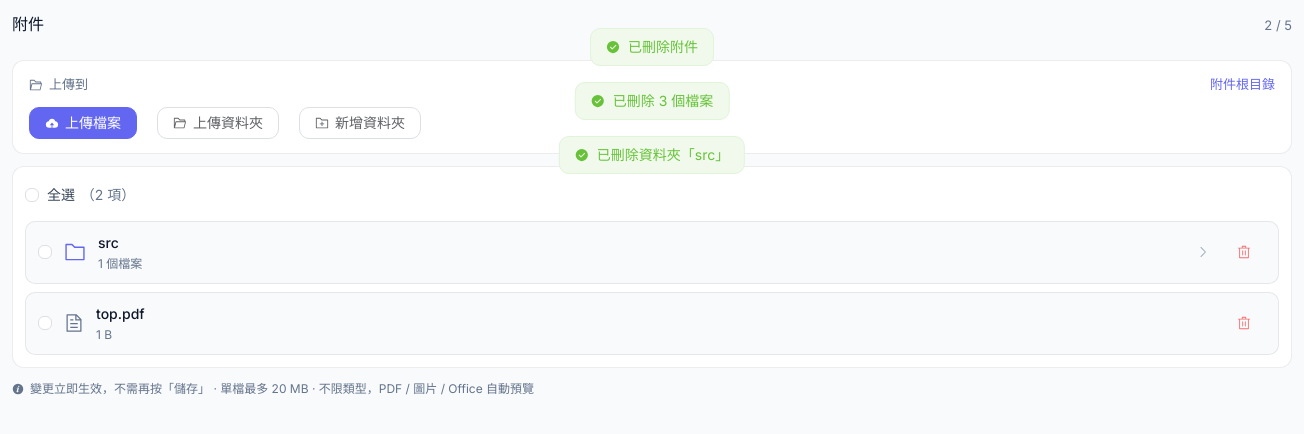
Test case: JobAttachmentsManager.vue › transient "new folder" button › opens a name prompt and navigates into the new folder on confirm
Click the button with test id "folder-create-button". click: (360, 122)
box: [299,106,421,138]
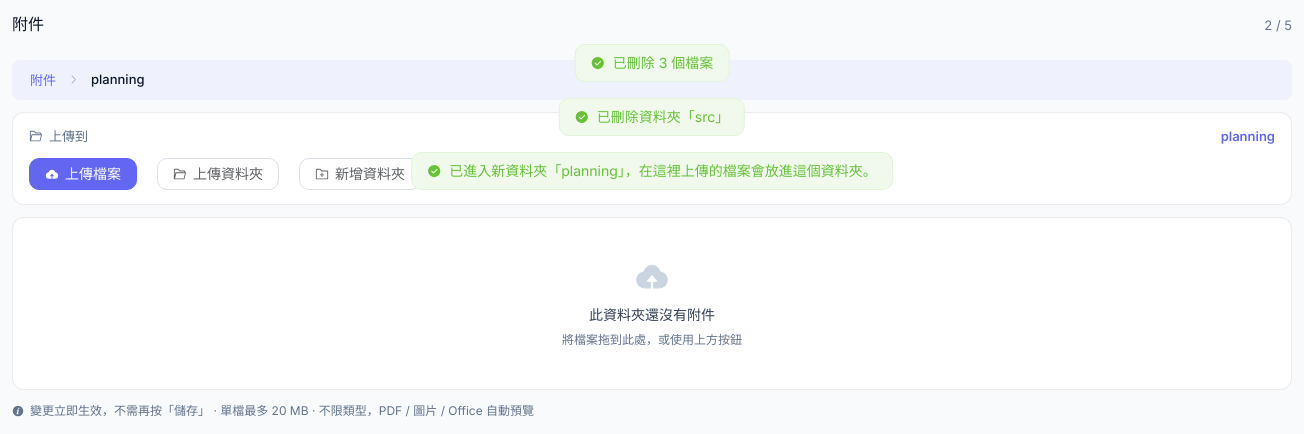
Check: the 1st text "planning" is shown, box [91,71,144,87]
